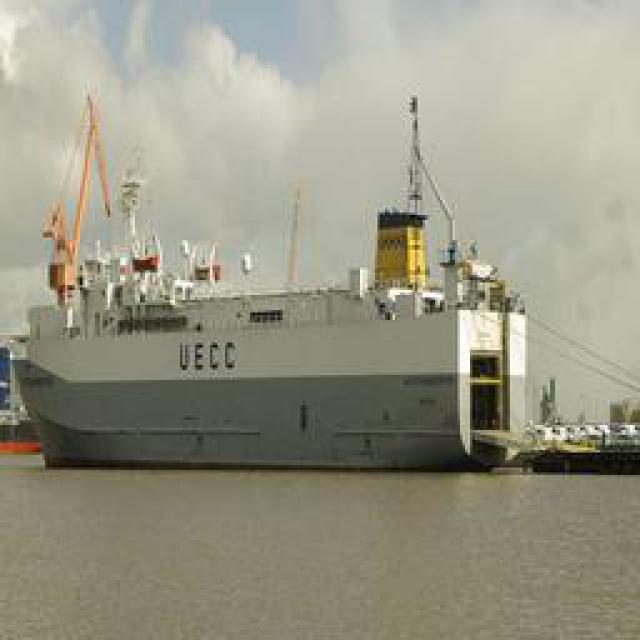Ship: (11, 221, 574, 474)
